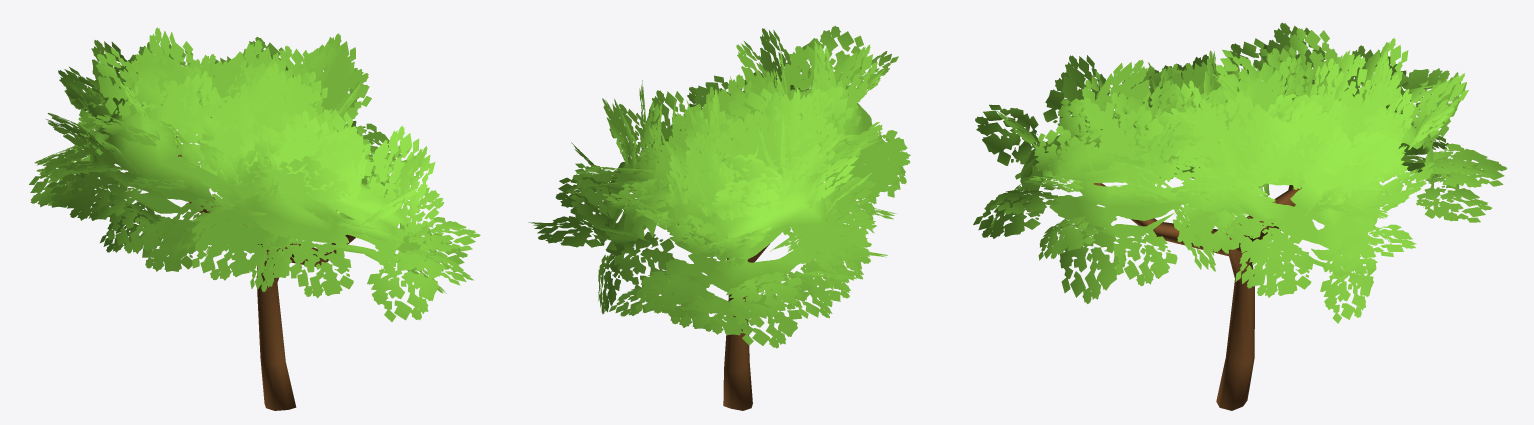
File: Tree_02.fbx
3 views of the same model, side by side, from view 1: azimuth 30°, elevation 25°; view 2: azimuth 150°, elevation 25°; view 3: azimuth 270°, elevation 25° (orthographic). The views are drawn at different scales.
Visible parts, largest first — view 1: TreeLeaves_02, Tree_Bark_02; view 2: TreeLeaves_02, Tree_Bark_02; view 3: TreeLeaves_02, Tree_Bark_02.
Part boxes in pixels (x1,y1,x2,y2): TreeLeaves_02: (29,27,480,321); Tree_Bark_02: (177,145,355,410); TreeLeaves_02: (528,25,910,348); Tree_Bark_02: (631,190,770,410); TreeLeaves_02: (973,22,1507,323); Tree_Bark_02: (1093,183,1301,410).
Bounding box in the file's own units: 615 × 584 × 865.
